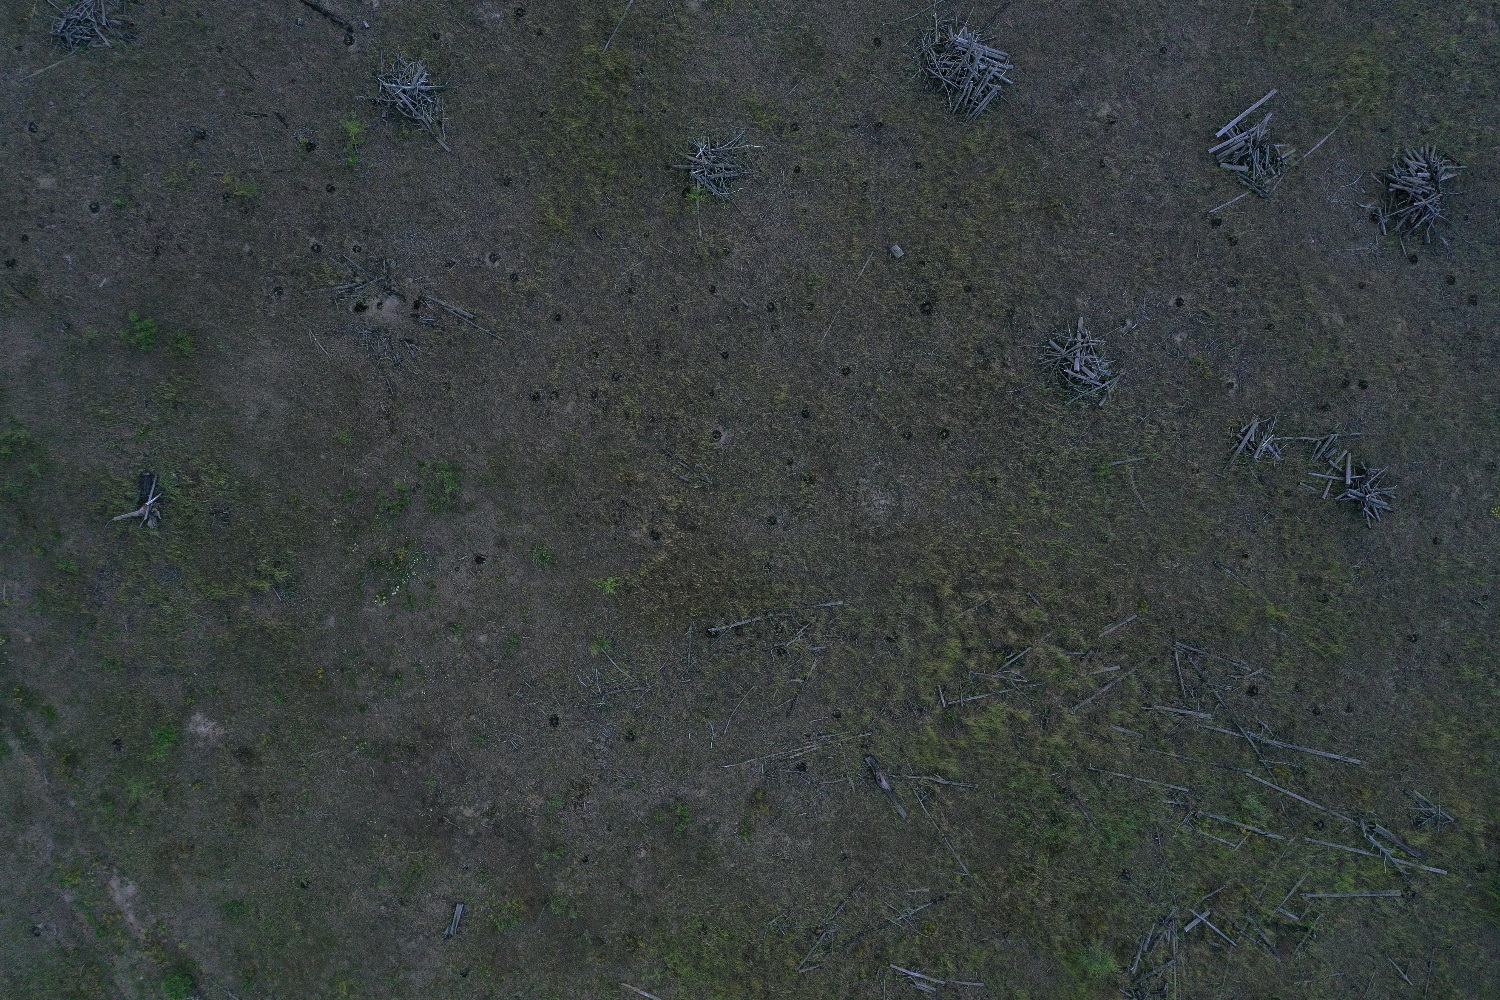branches: (1368, 143, 1473, 257), (912, 11, 1015, 123), (1032, 316, 1136, 410), (1208, 88, 1297, 196), (1302, 437, 1397, 528), (669, 132, 767, 203), (367, 52, 453, 133), (1218, 413, 1301, 483), (39, 1, 136, 51), (1402, 787, 1455, 835)
